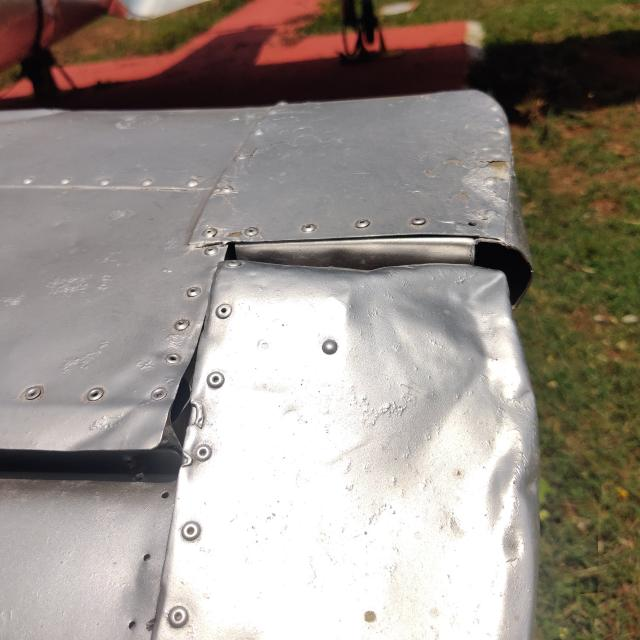dent: (465, 412, 565, 591), (388, 252, 527, 380)
